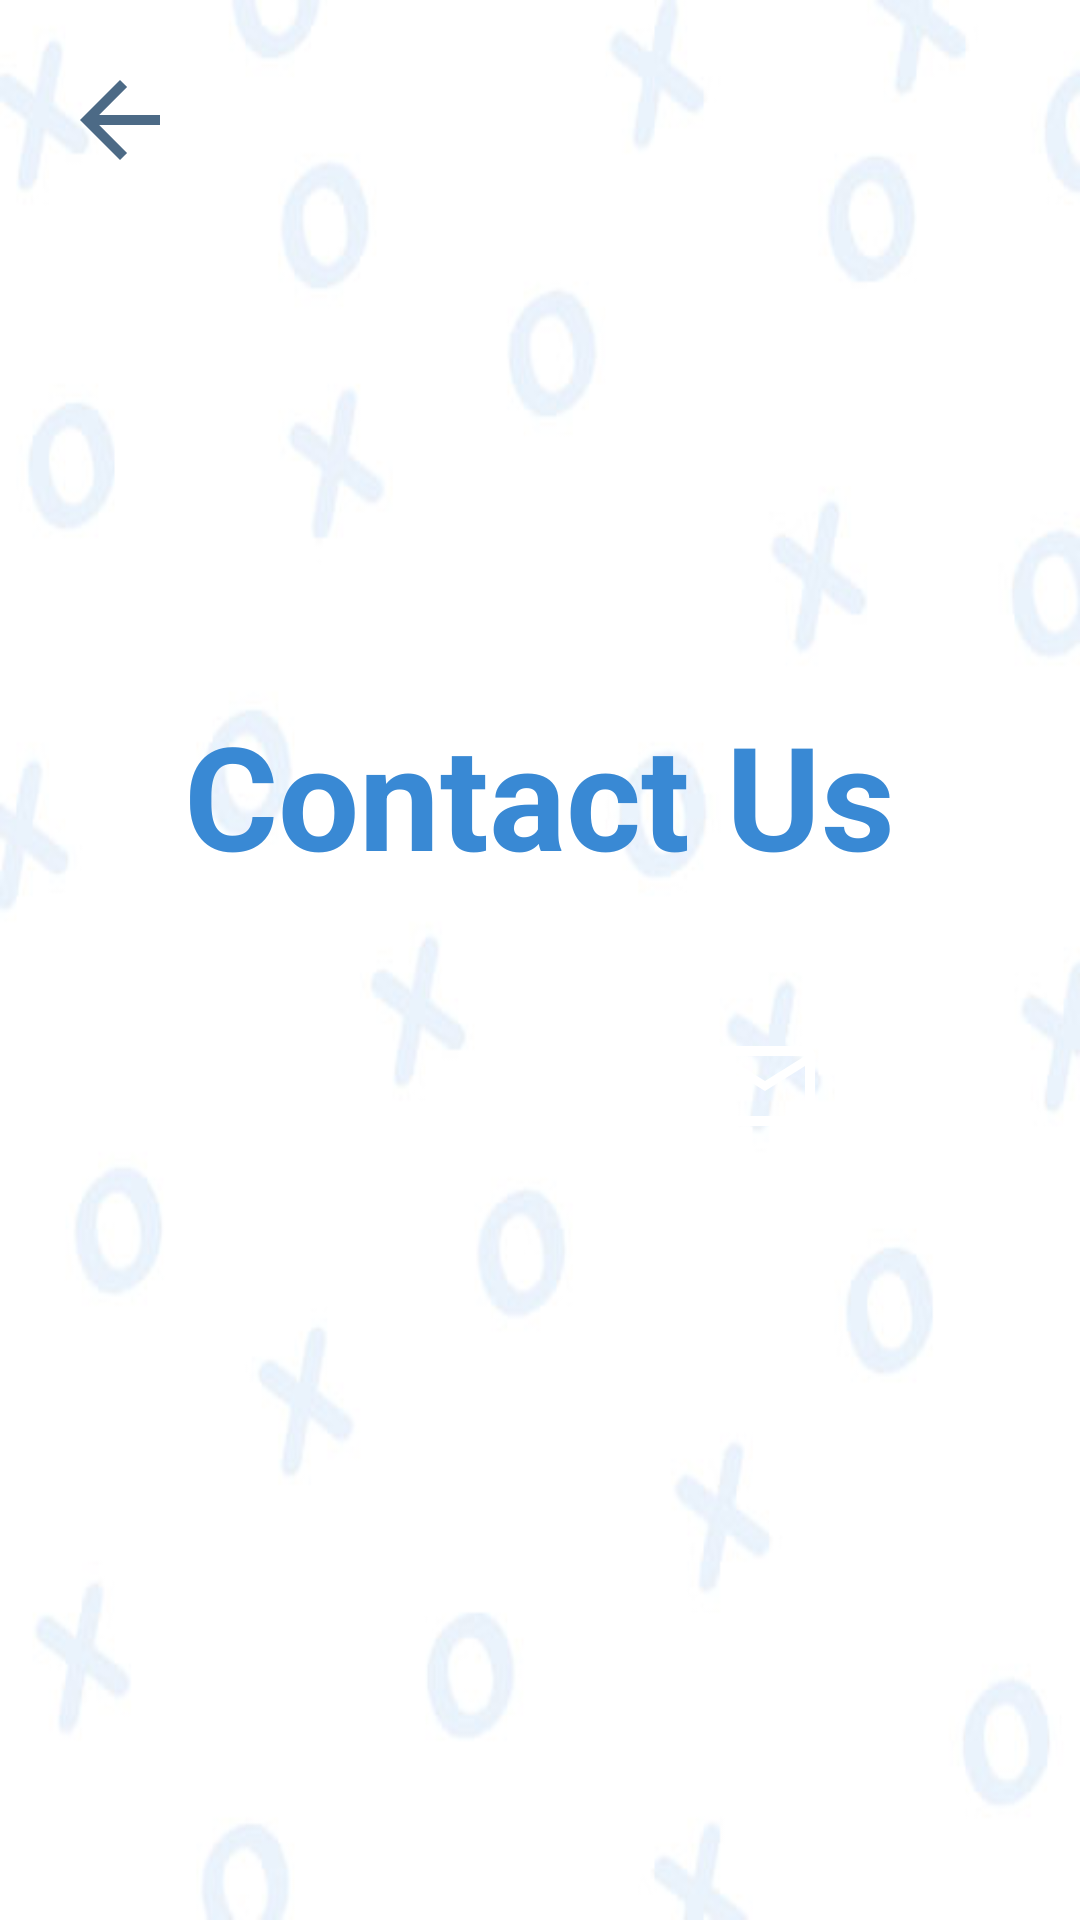

Icon bounding boxes for this 1080w x 1920h phone screenshot, format (x1, y1, x2, y2):
arrow back: (60, 80, 160, 160)
